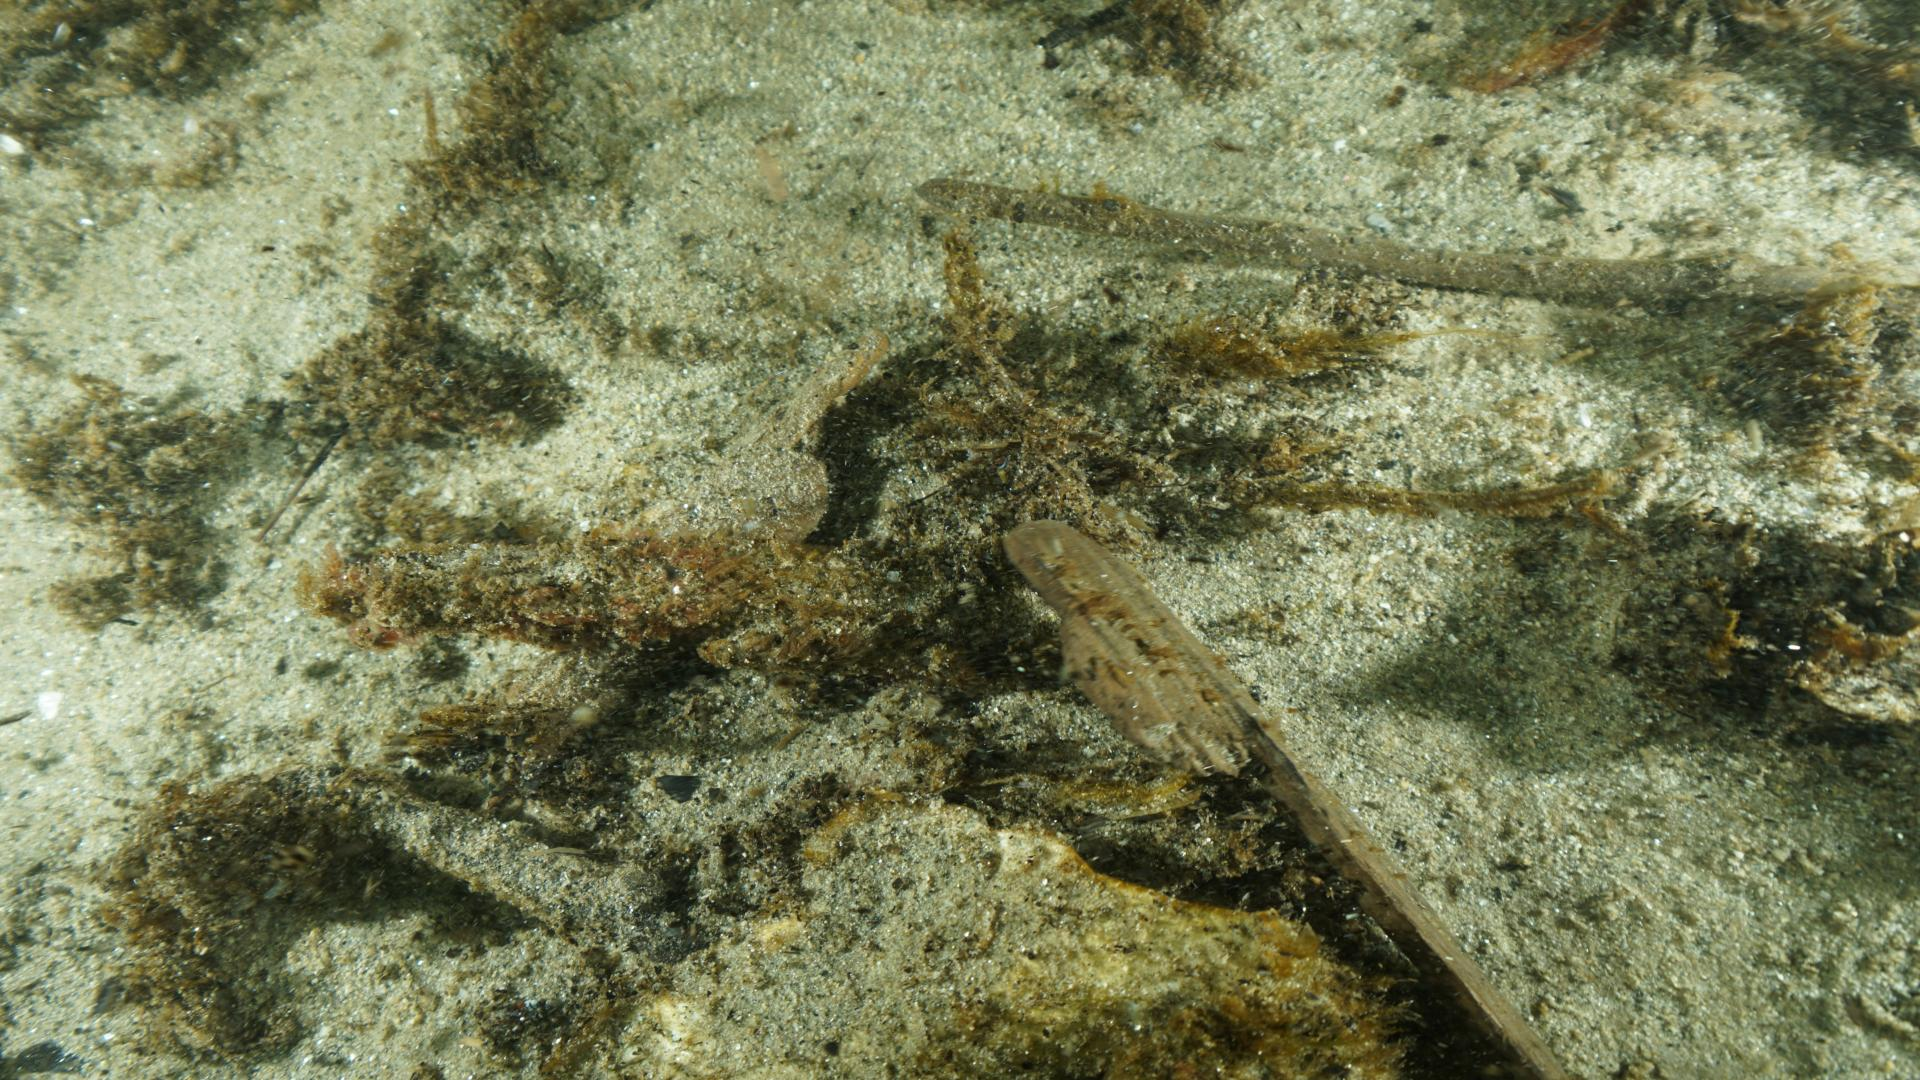wood: (1001, 517, 1576, 1080)
